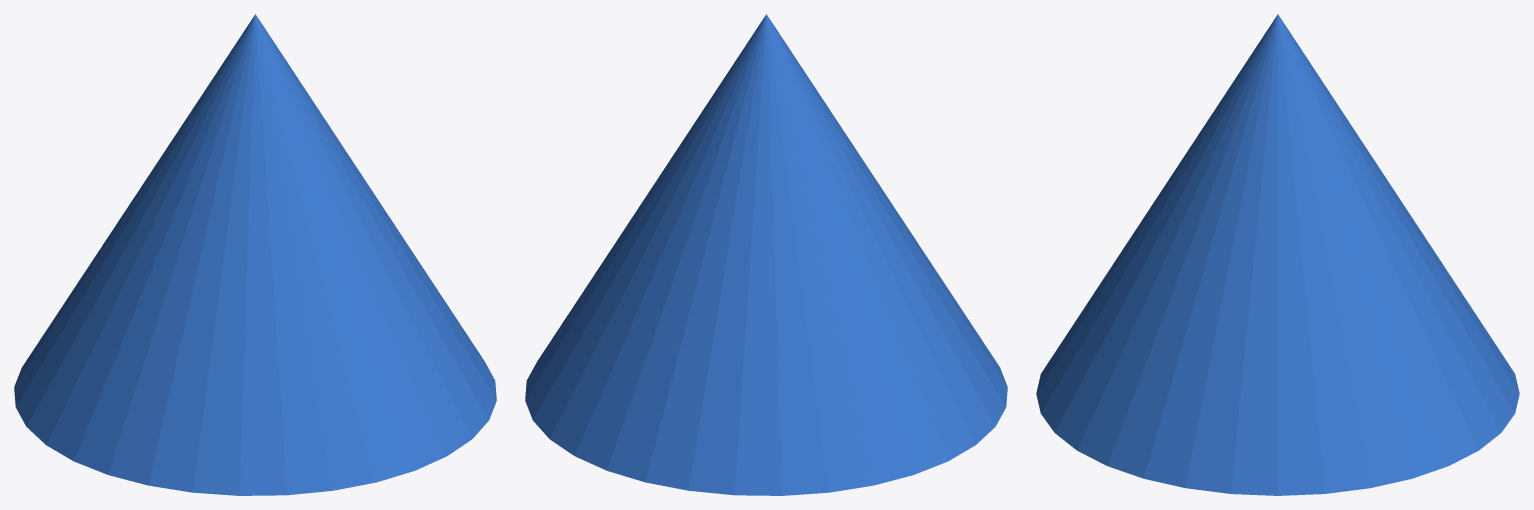
The model's file is fuji_body.dae.
3 views of the same model, side by side, from view 1: azimuth 30°, elevation 25°; view 2: azimuth 150°, elevation 25°; view 3: azimuth 270°, elevation 25° (orthographic).
Parts seen in each view (by area): view 1: mountain; view 2: mountain; view 3: mountain.
Part boxes in pixels (box(x1,y1,x2,y2)): mountain: box(14, 14, 496, 495); mountain: box(525, 14, 1007, 495); mountain: box(1036, 14, 1519, 495).
Bounding box in the file's own units: 1.5 × 1.5 × 1.3.
